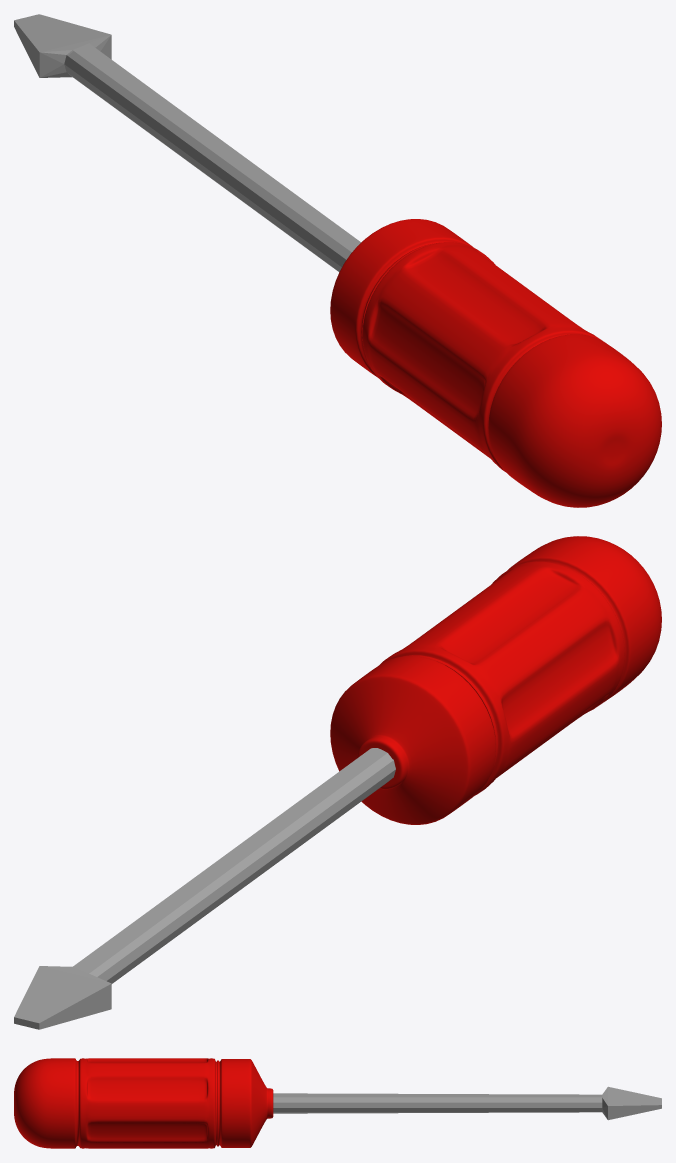
File: screwdriver.fbx
The picture shows the model from 3 angles, top to bottom: view 1: azimuth 30°, elevation 25°; view 2: azimuth 150°, elevation 25°; view 3: azimuth 270°, elevation 25°; orthographic projection. The views are drawn at different scales.
Visible parts, largest first — view 1: Circle, Cube; view 2: Circle, Cube; view 3: Circle, Cube.
Part boxes in pixels (x1,y1,x2,y2): Circle: (330,219,661,507); Cube: (14,14,360,271); Circle: (330,536,661,824); Cube: (14,748,395,1029); Circle: (14,1058,273,1148); Cube: (273,1086,661,1120).
Bounding box in the file's own units: 191 × 191 × 1364.
